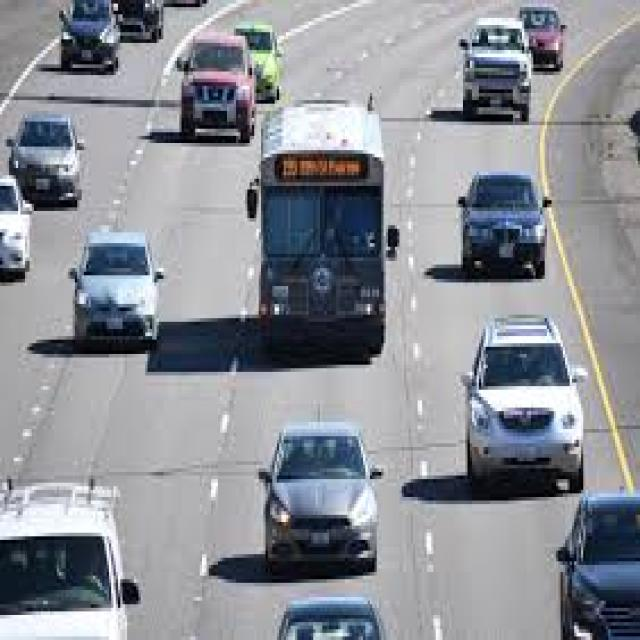bus: (247, 104, 384, 354)
car: (0, 486, 138, 640), (465, 318, 583, 493), (259, 425, 379, 572), (558, 497, 638, 640), (70, 229, 161, 347), (458, 175, 549, 279), (177, 32, 252, 143), (458, 18, 529, 122), (7, 118, 79, 207), (279, 597, 381, 640), (61, 0, 118, 72), (236, 25, 279, 104), (0, 175, 30, 279), (520, 7, 563, 72), (118, 0, 161, 39)
